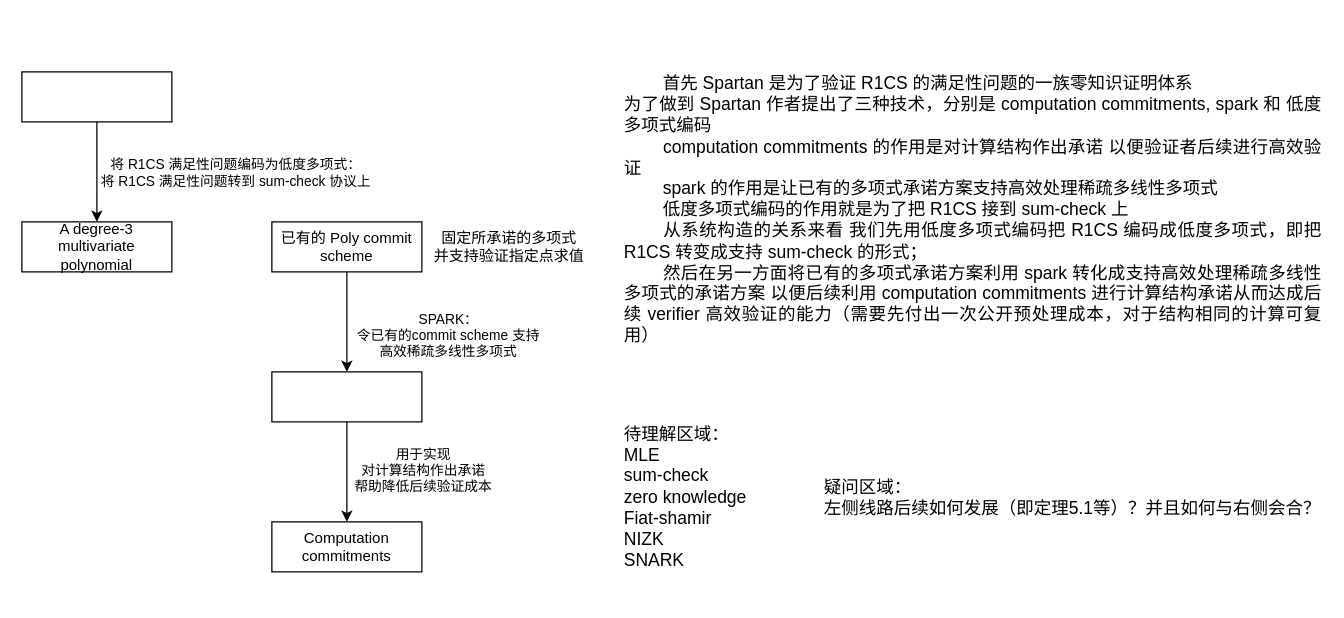
This 1344x618 diagram has some shape labels left out. The centre of each missing label's shape, as x and y in pixels:
R1CS instance: point 96,96
支持 sparse multilinear poly commit scheme: point 346,396
